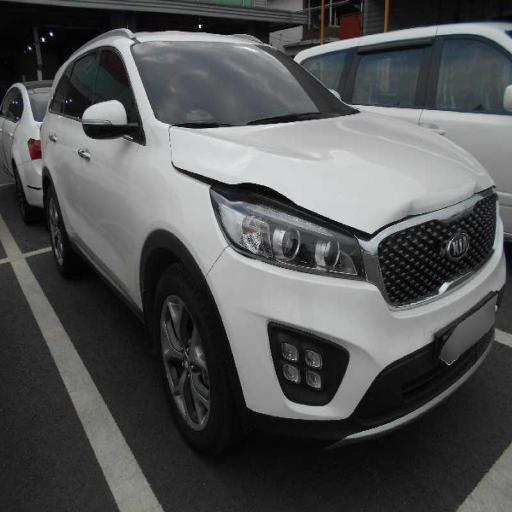dent: (166, 106, 402, 324)
